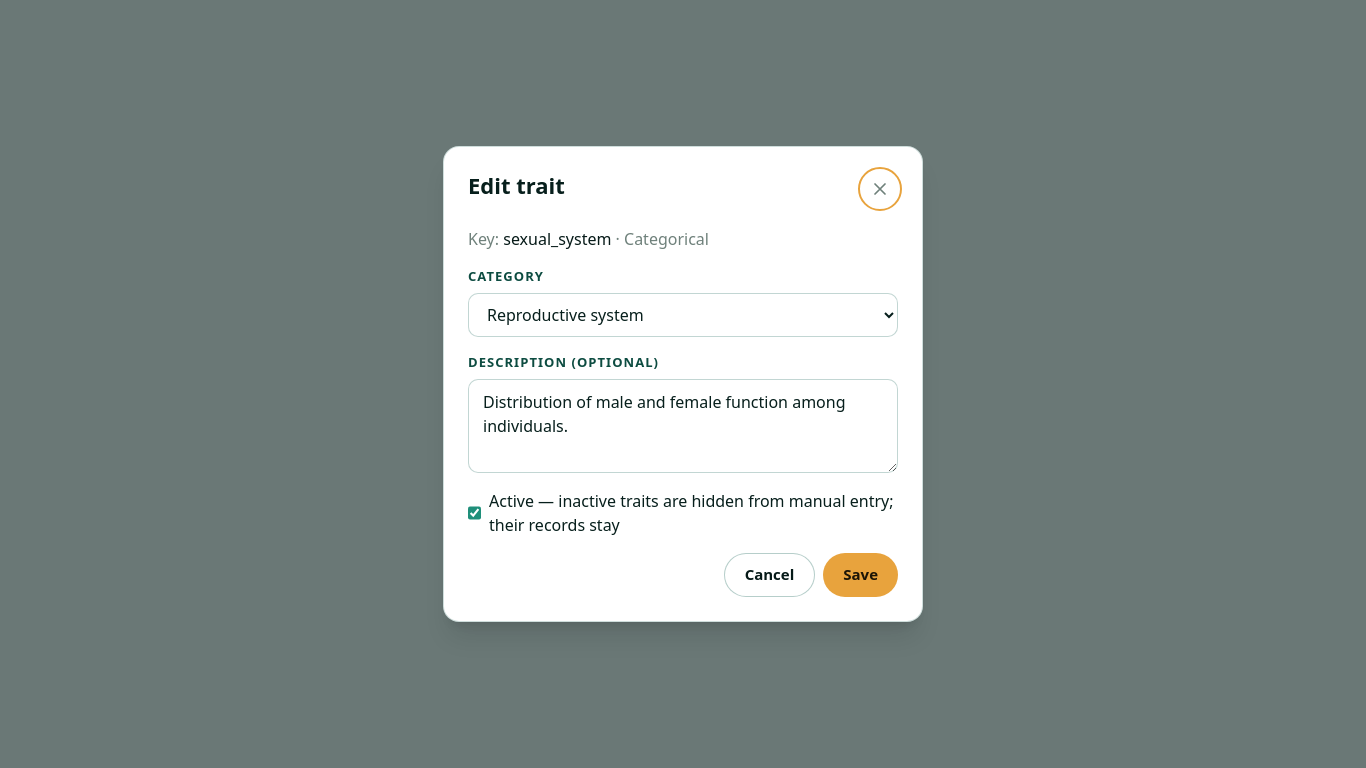
RFC-62 R6 EditTraitDialog › shows a VALIDATION_FAILED field message without the Alert alongside it
This screenshot has width=1366, height=768.
Replace the text in the text box labelled "Description (optional)" with "Sex distribution." at (683, 426), box [468,379,898,473]
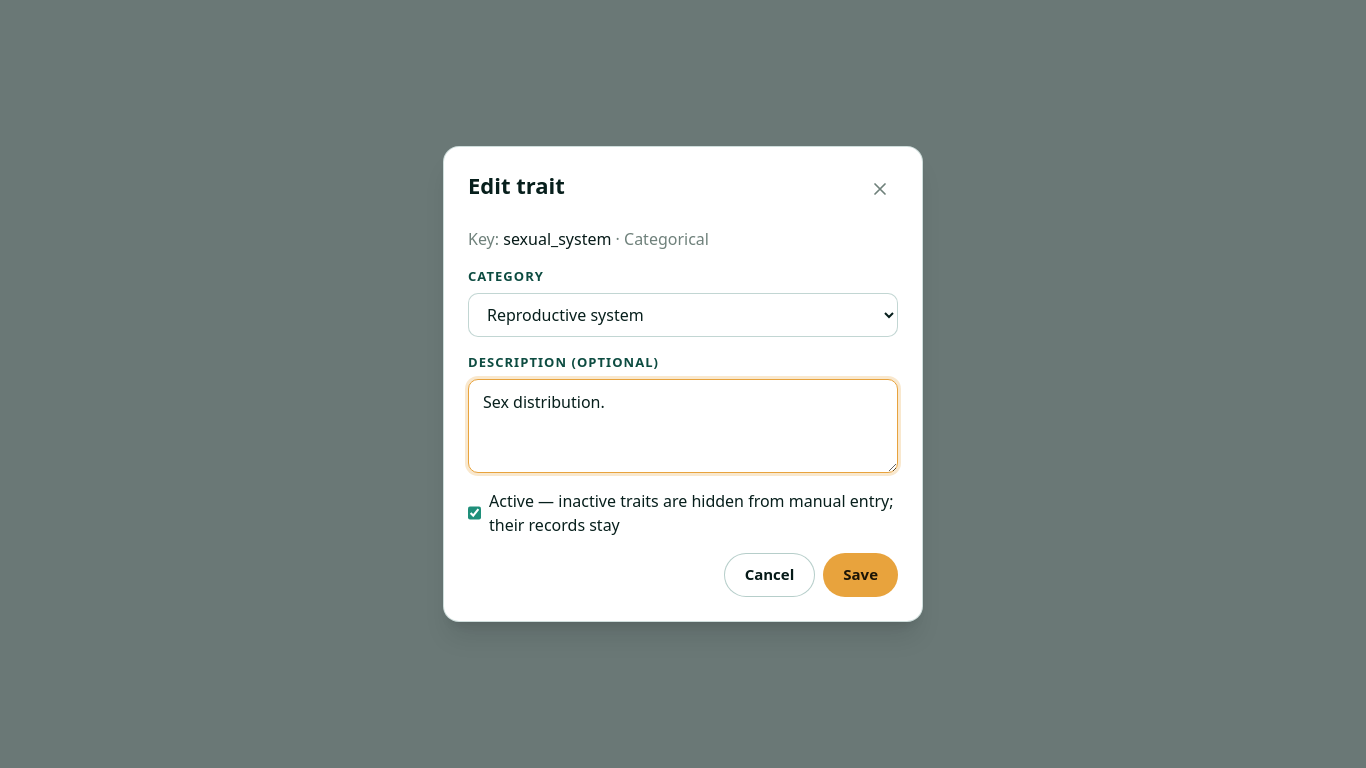
Click the button "Save".
click(861, 575)  # box [823,553,898,597]
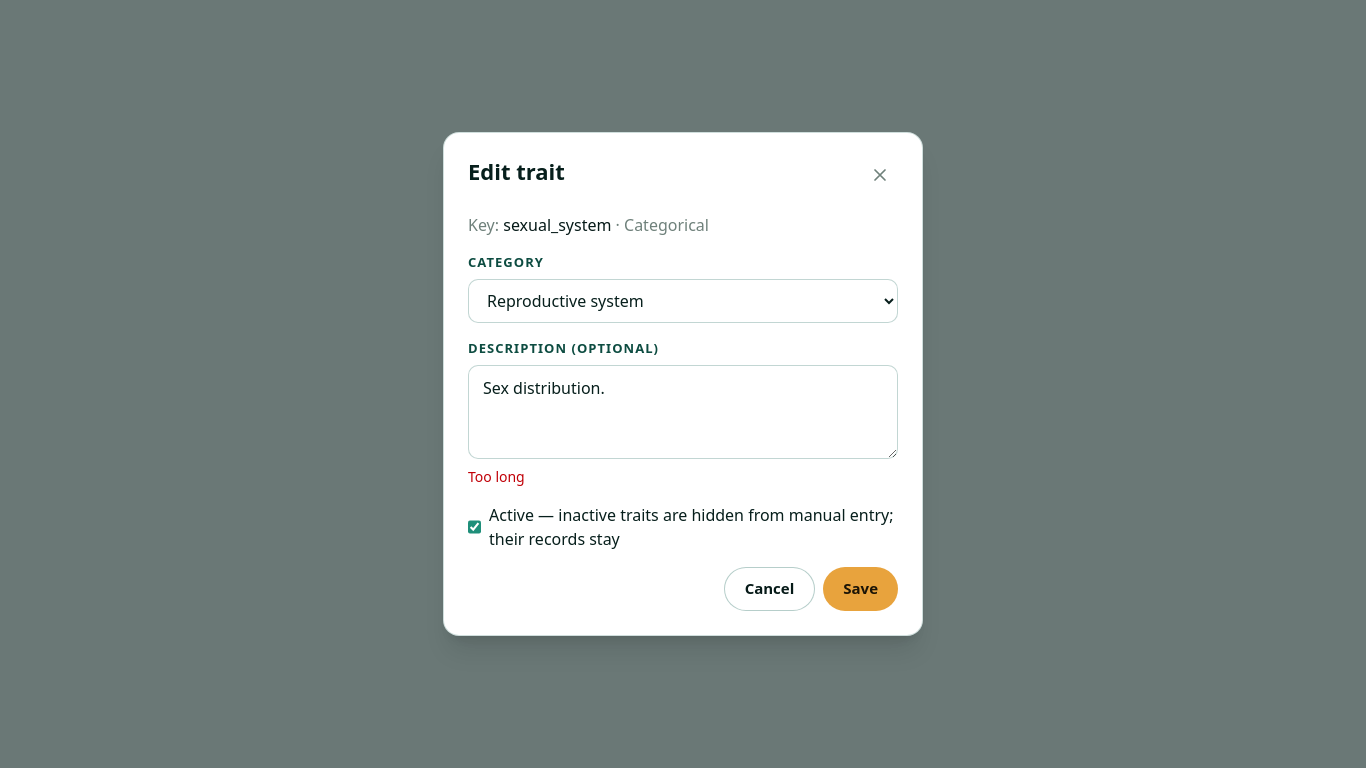
Result: the text "Too long" is shown at [468,467,525,486]
